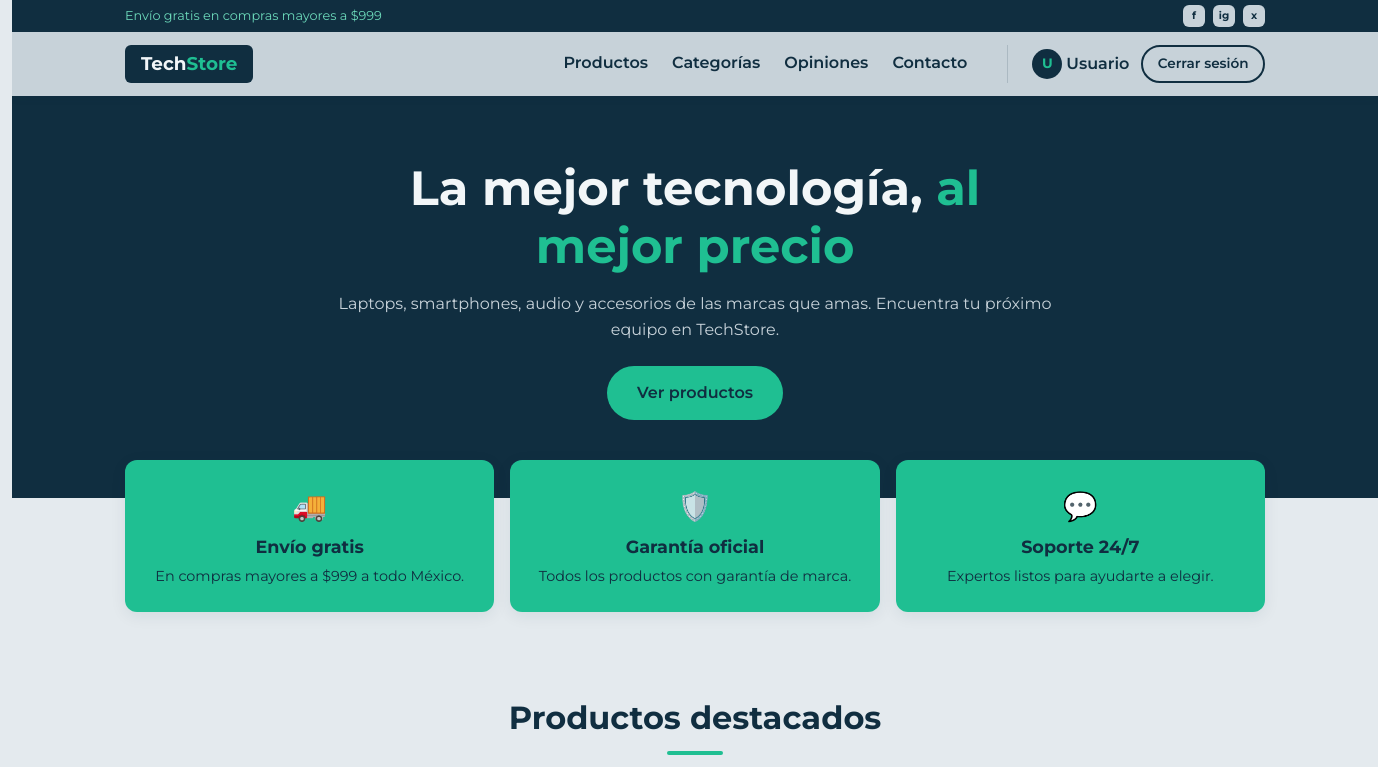
con sesión › cerrar sesión lleva al login y borra la sesión
Click the button "Cerrar sesión".
click(1203, 64)  # box x1=1141 y1=45 x2=1265 y2=83
(page scrolled)
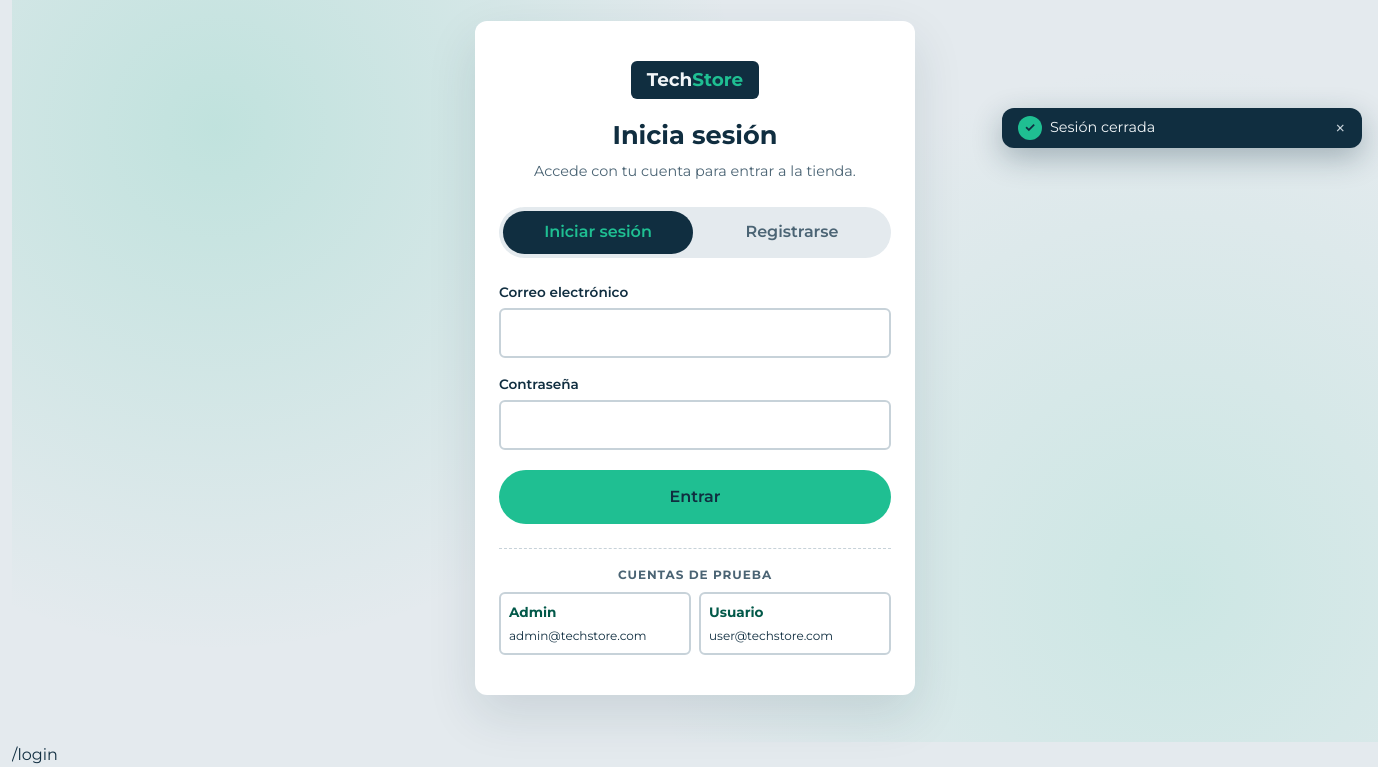
Check: the text with test id "location" reads "/login", box x1=12 y1=745 x2=58 y2=764
